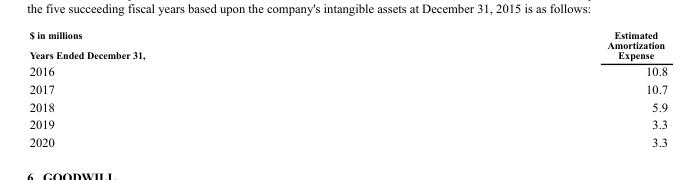table: (28, 28, 667, 148)
table column: (28, 28, 375, 148), (375, 28, 667, 148)
table column header: (28, 28, 667, 62)
table row: (28, 28, 667, 62), (28, 79, 667, 97), (28, 97, 667, 115), (28, 62, 667, 79), (28, 115, 667, 132), (28, 132, 667, 148)
